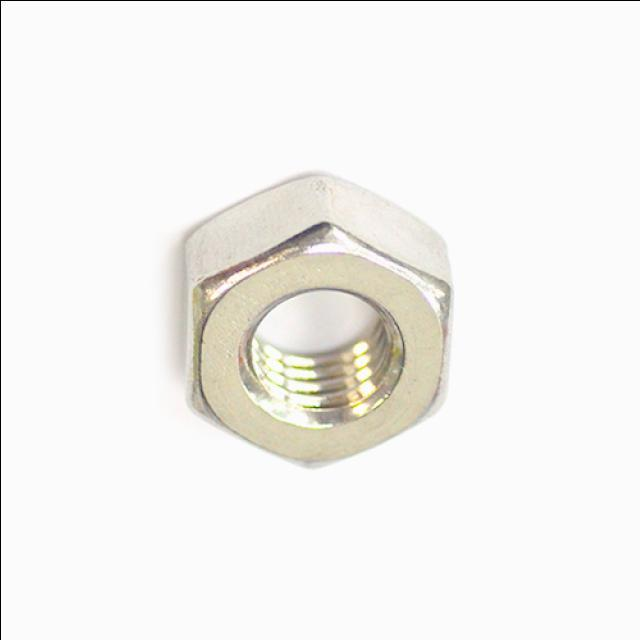Dry Waste: (121, 136, 478, 486)
